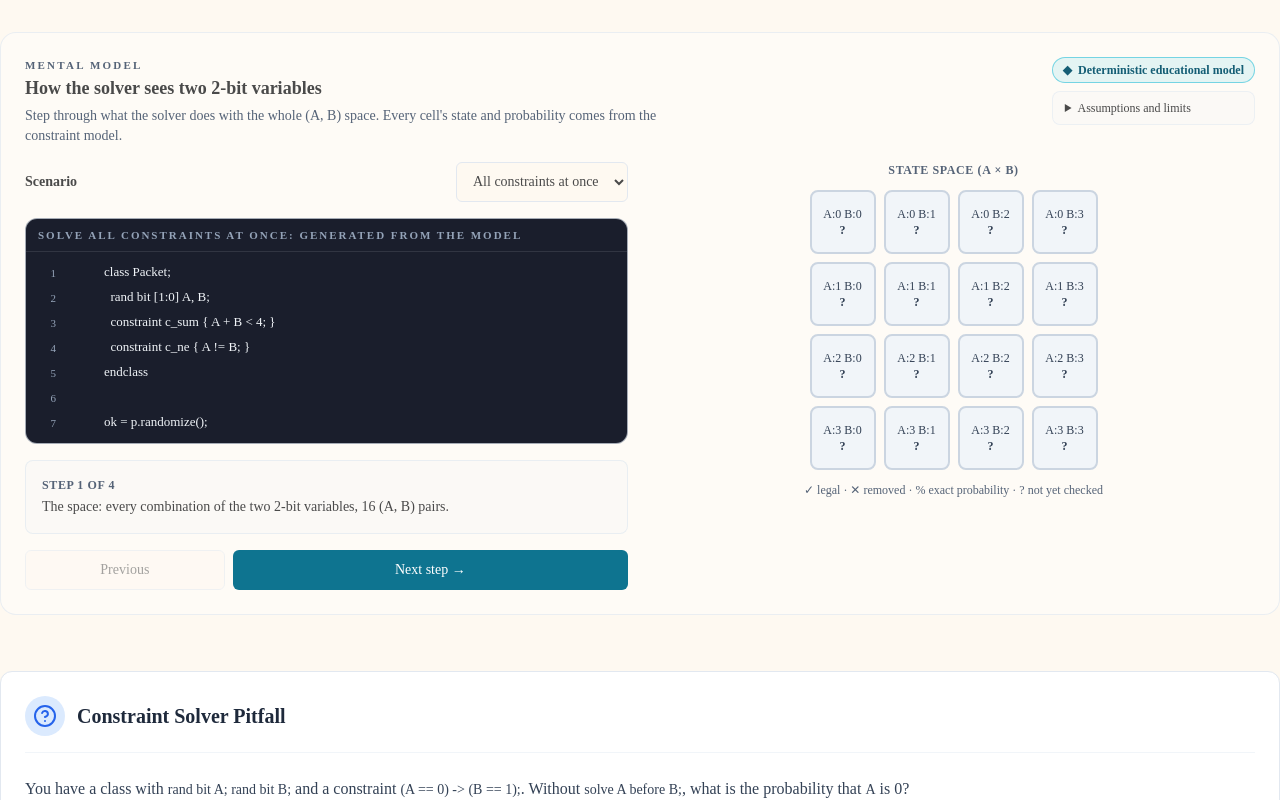
Test: ConstraintSolverVisualizer › has a labelled scenario select and describes simultaneous, not sequential, solving
This screenshot has width=1280, height=800.
Expected: the dropdown labelled "Scenario" is shown, [456,162,628,202]
Click the button "Next step →" at (430, 570), box [233,550,628,590]
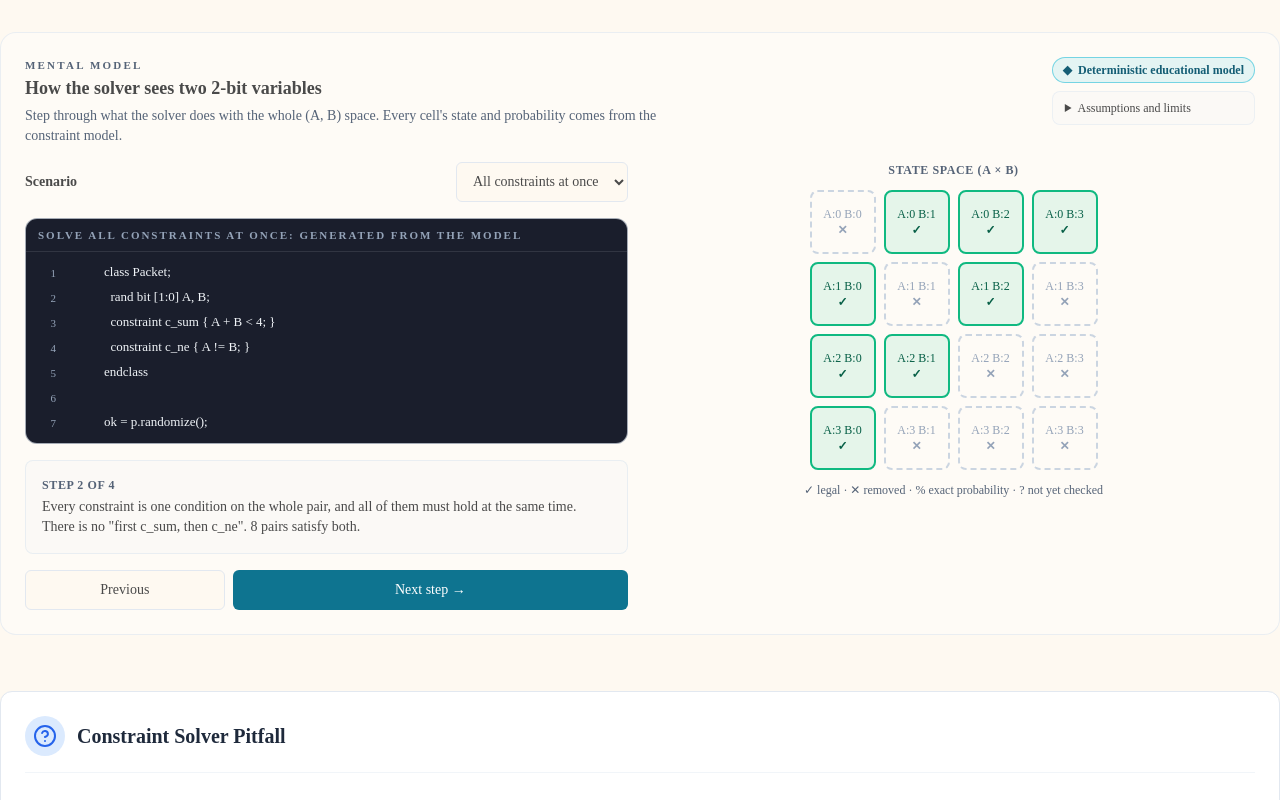
Expected: the text "There is no \"first c_sum, then c_ne\"" is shown, [42,499,576,534]
Expected: the list item named "A = 3, B = 1: removed, fails c_sum" is shown, [884,406,950,470]
Expected: the list item named "A = 1, B = 1: removed, fails c_ne" is shown, [884,262,950,326]
Click the button "Next step →" at (430, 590), box [233,570,628,610]
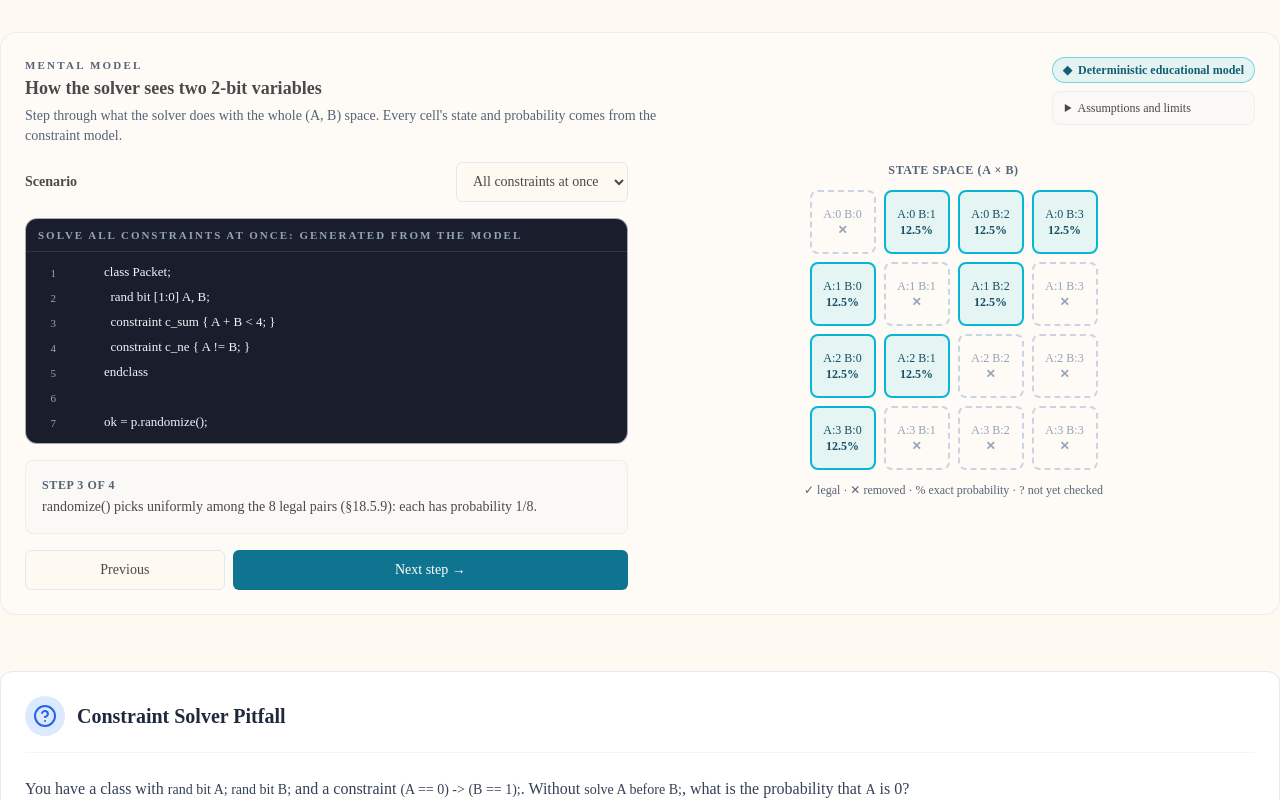
Click the button "Next step →" at (430, 570), box [233,550,628,590]
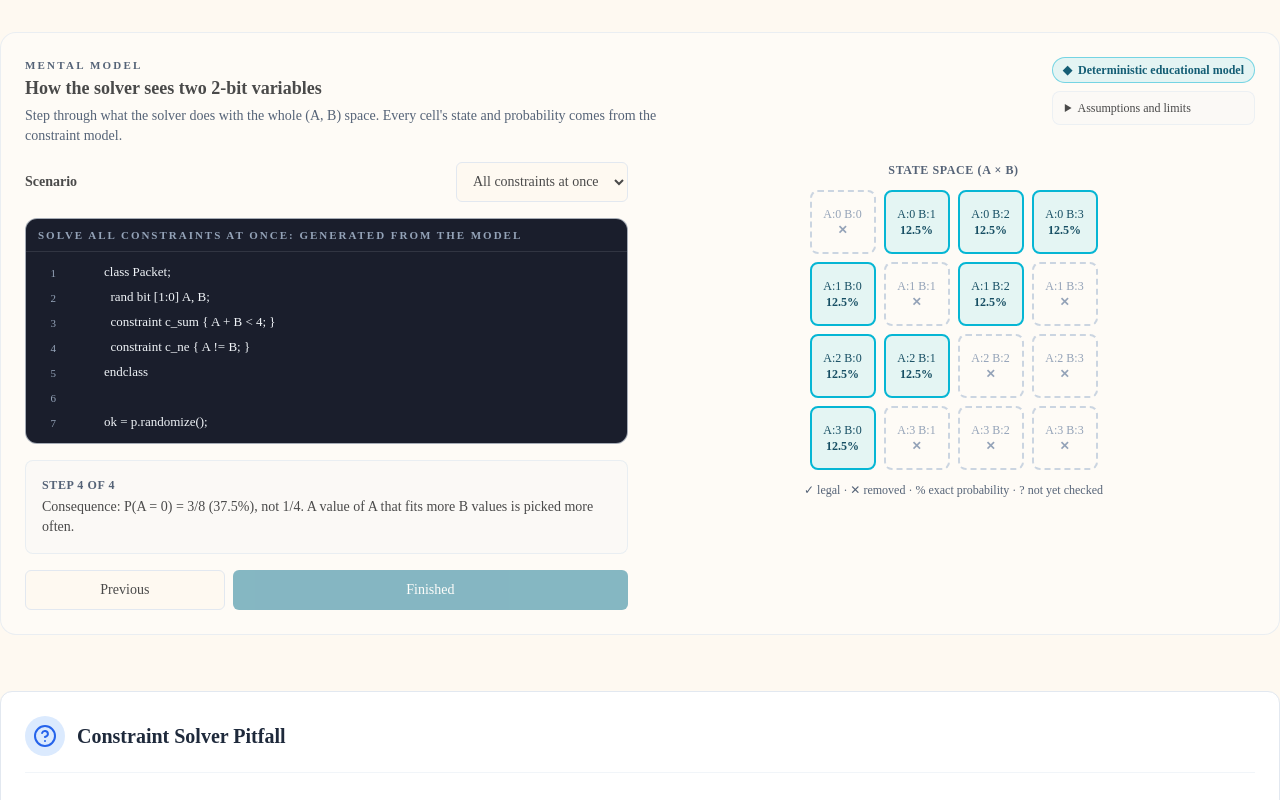
Expected: the text "P(A = 0) = 3/8" is shown, [42,499,593,534]
